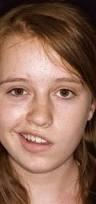strokeEyeWeak: (2, 72, 84, 102)
strokeMouthSevere: (11, 128, 55, 154)
